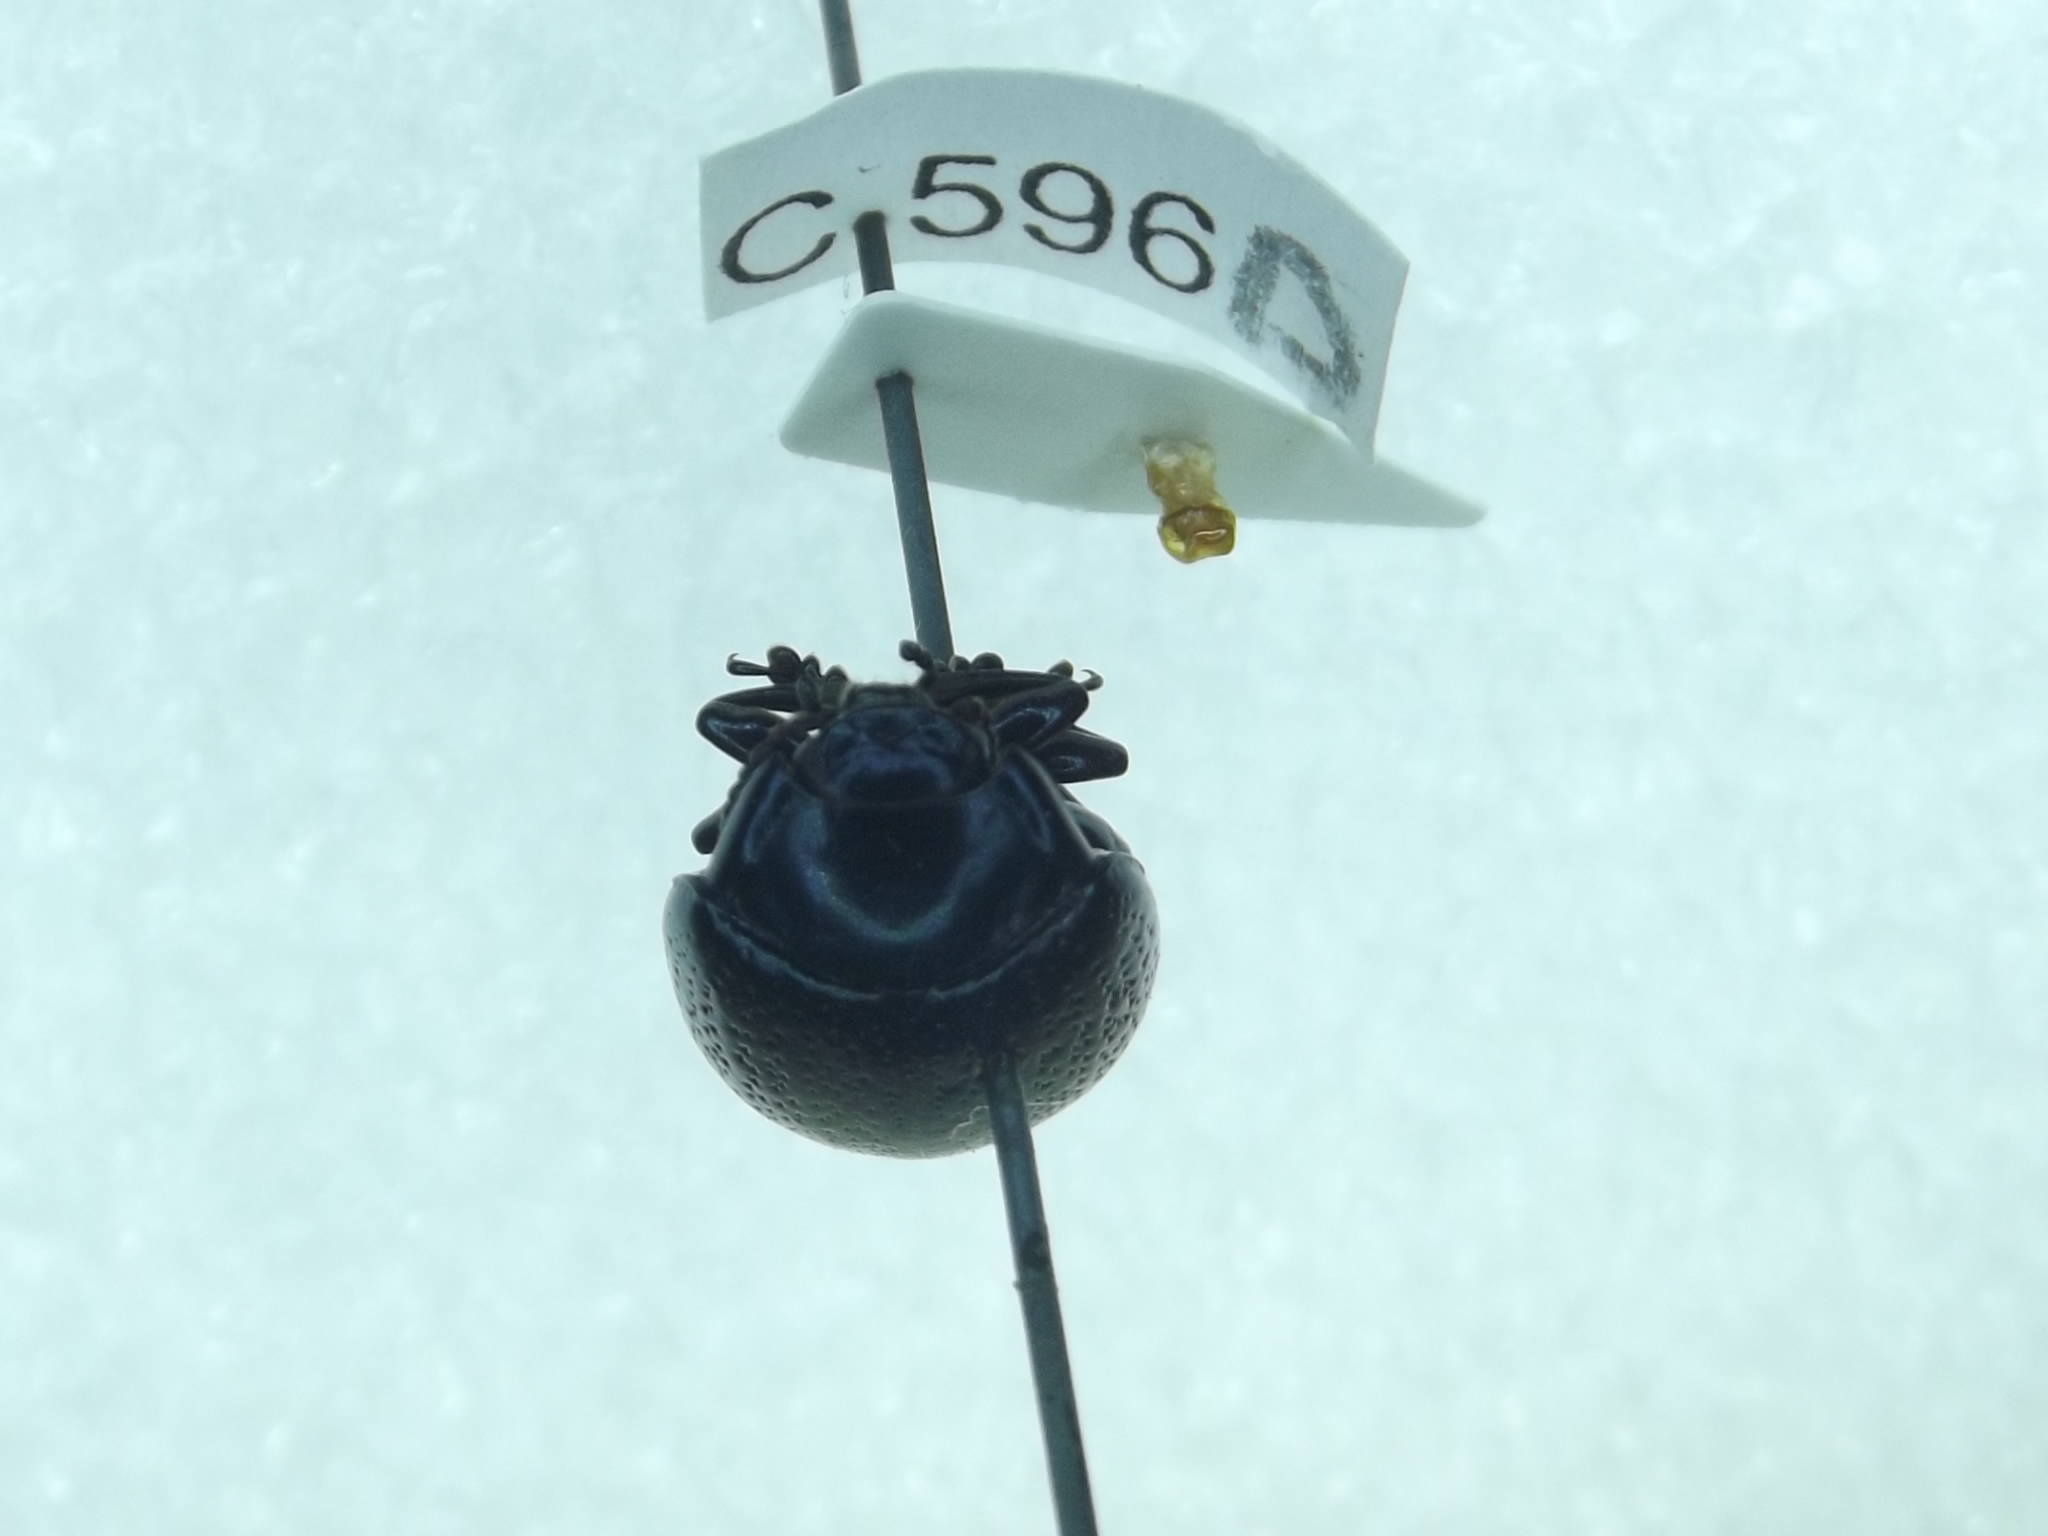Chrysolina_oricalcia: (656, 632, 1172, 1178)
